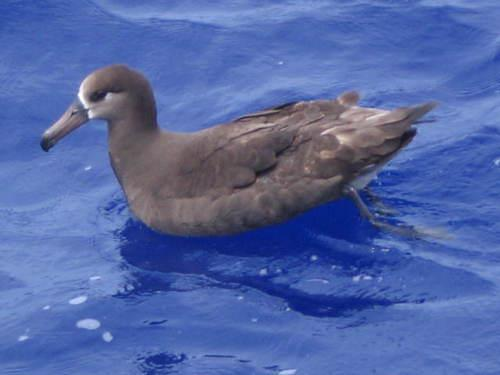001.Black_footed_Albatross: (39, 62, 434, 239)
